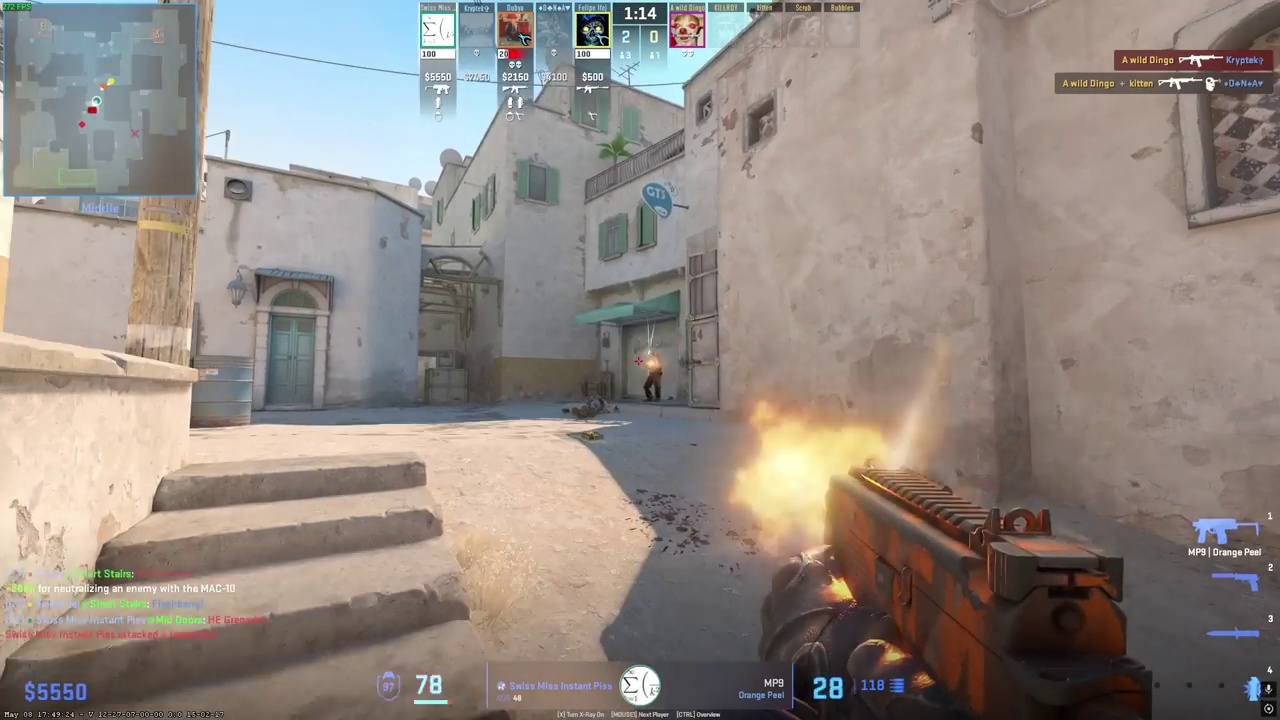Terrorist: (643, 350, 662, 402)
